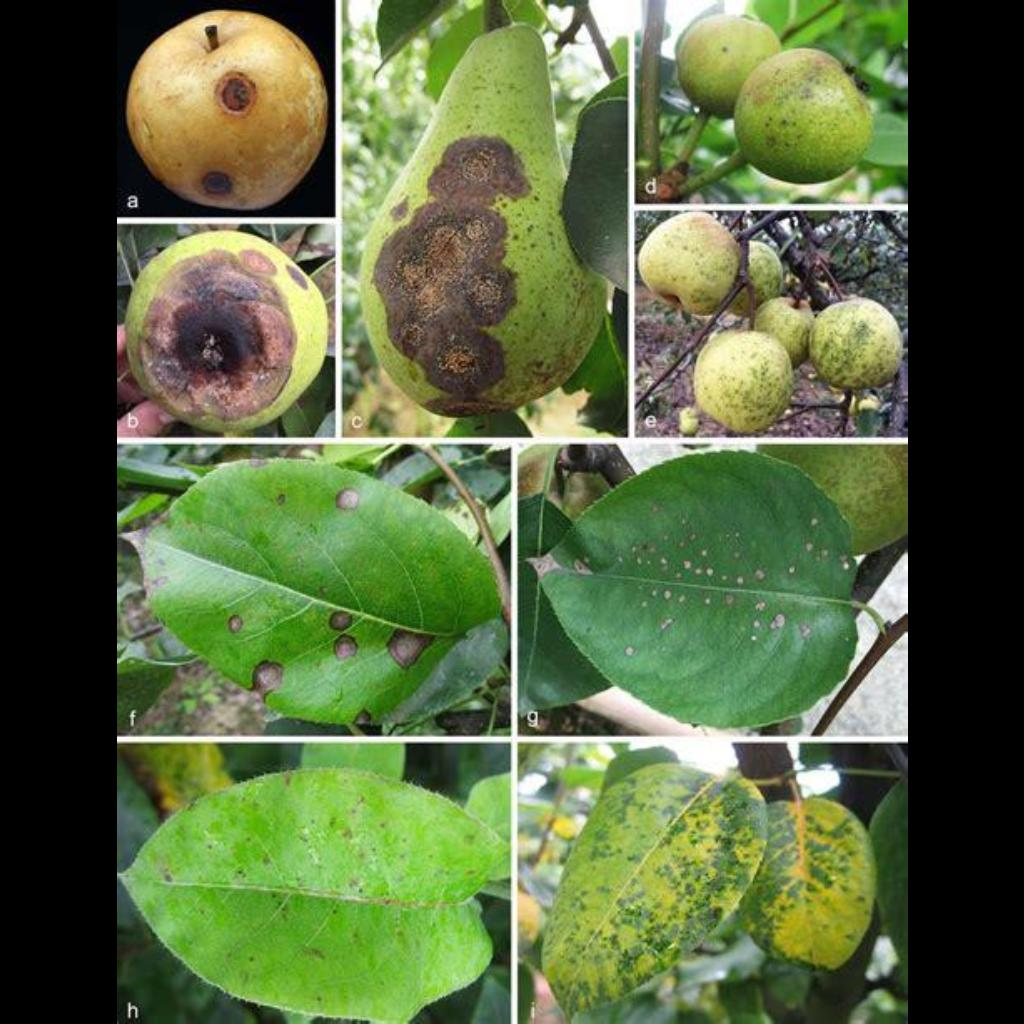Anthracnose: (366, 100, 596, 422), (116, 249, 326, 421)
